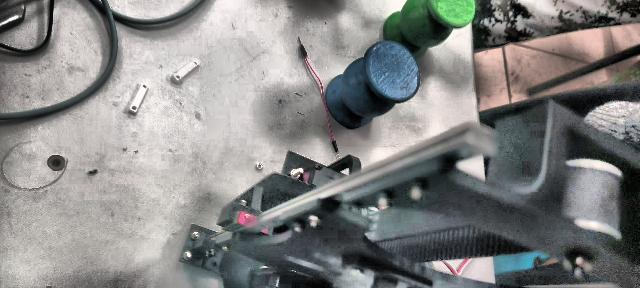blue: (326, 39, 420, 129)
green: (384, 0, 477, 57)
